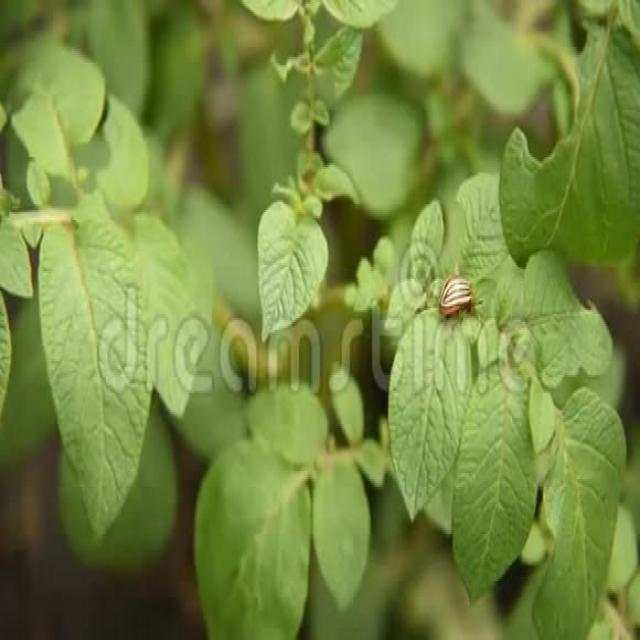ShuCaiHuaBanChong-Grown-: (430, 264, 487, 331)
